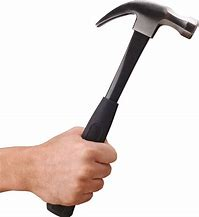hammer: (43, 1, 199, 217)
